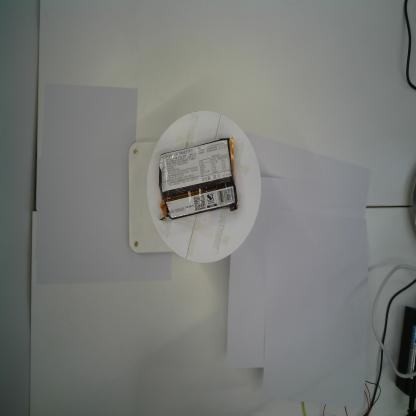Dessert: (158, 136, 240, 223)
